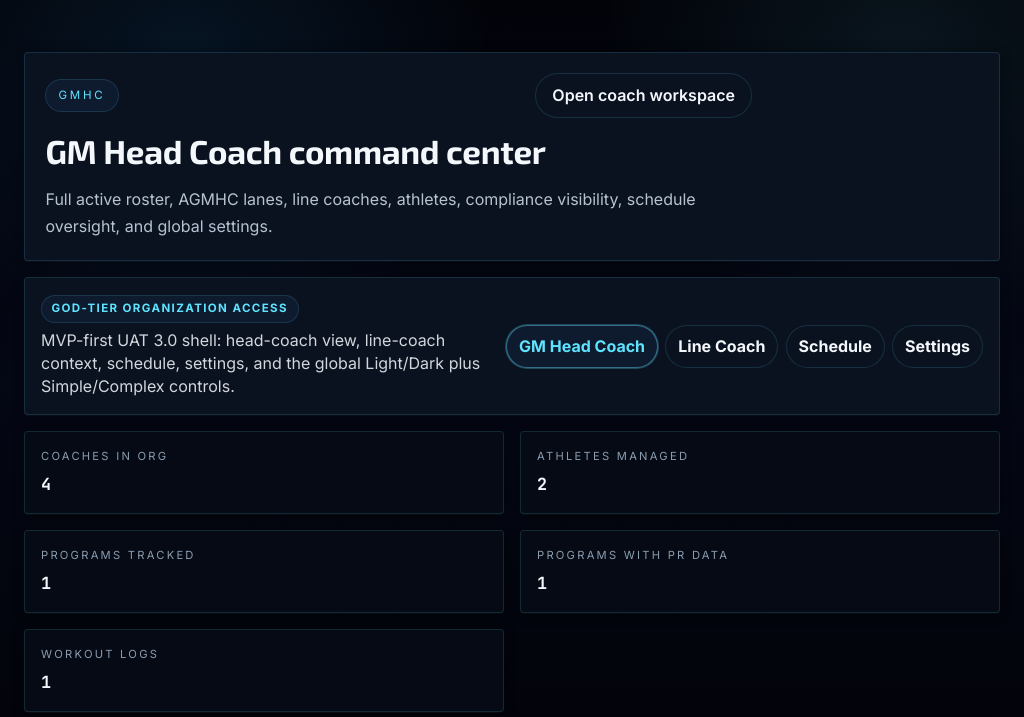
Test: HeadCoachDashboard UAT 3 shell › opens settings and schedule MVP panels
Click the tab "Settings" at (938, 346), box [892, 325, 983, 368]
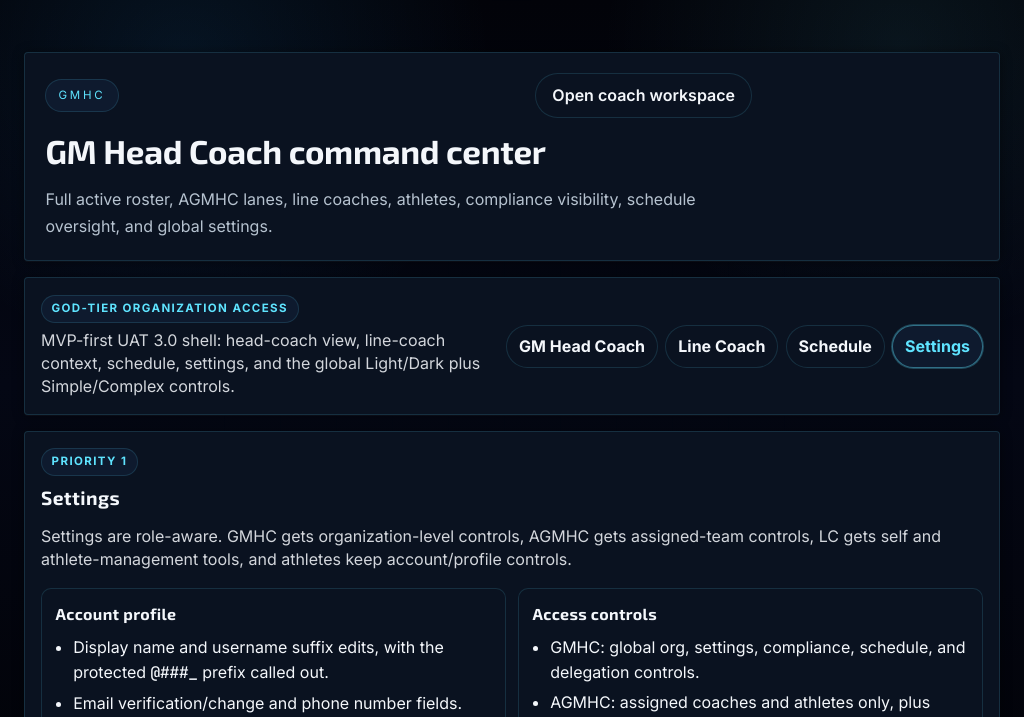
Expected: the heading "Settings" is shown, [41, 486, 120, 510]
Click the tab "Schedule" at (835, 346), box [786, 325, 885, 368]
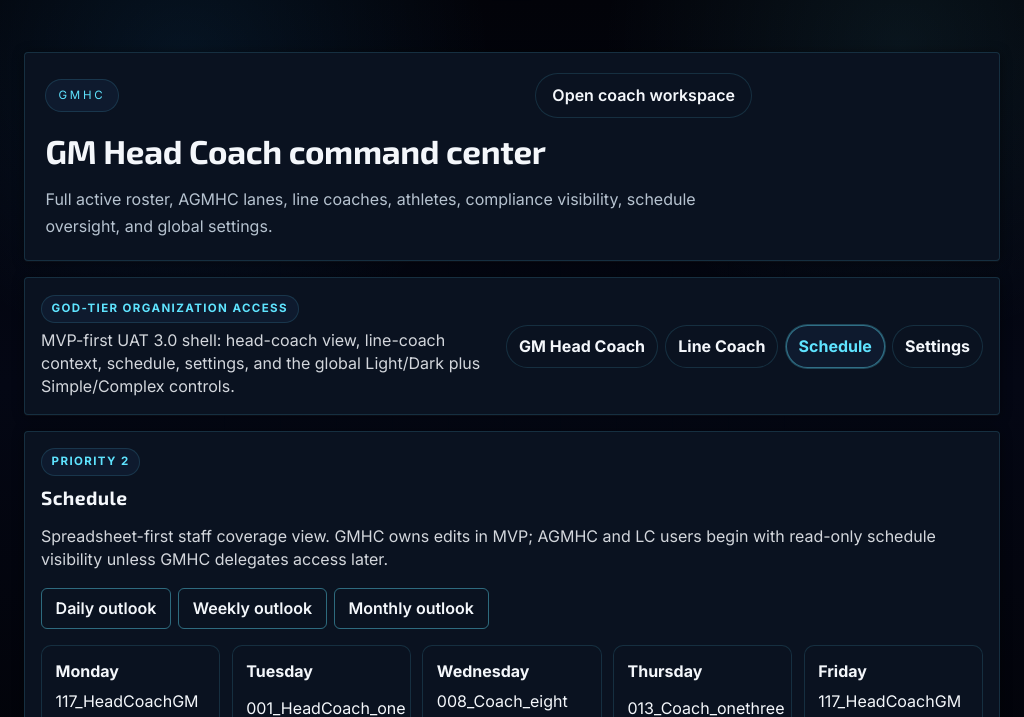
Expected: the heading "Schedule" is shown, [41, 486, 127, 510]
Expected: the button "Weekly outlook" is shown, [178, 588, 327, 629]
